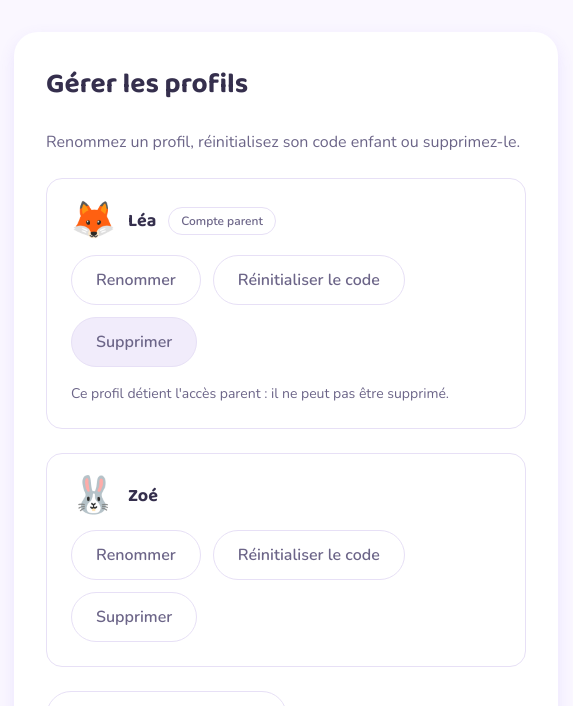
Test: ProfileManager — réinitialiser le PIN enfant › erreur réseau (throw) → repli GENERIC
Click the button "Réinitialiser le code" below "Zoé". click: (309, 555)
box: [213,530,405,580]
(page scrolled)
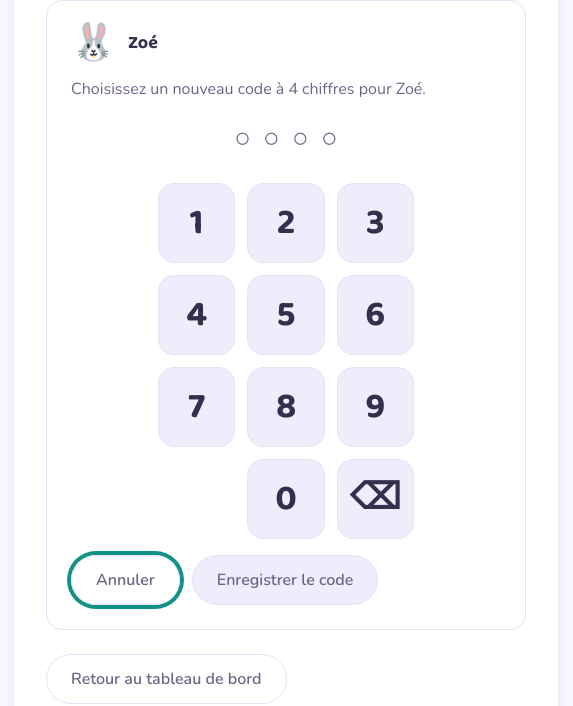
Click the button "3". click: (375, 223)
box: [337,183,414,263]
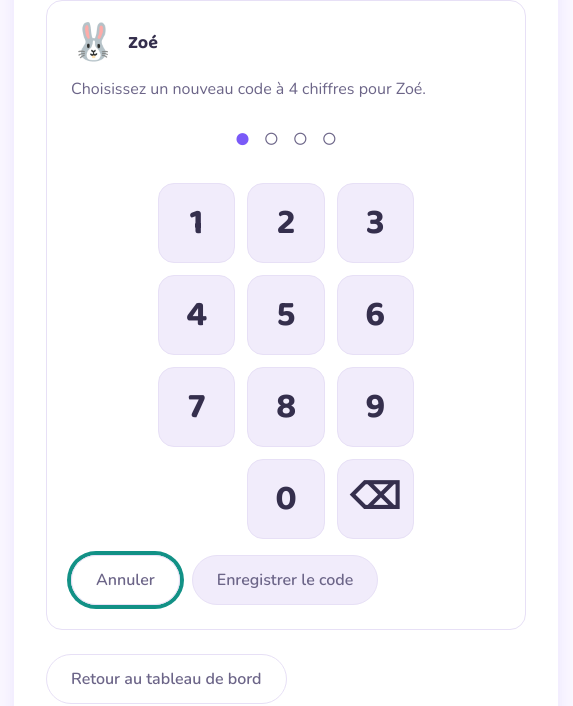
Click the button "3". click: (375, 223)
box: [337,183,414,263]
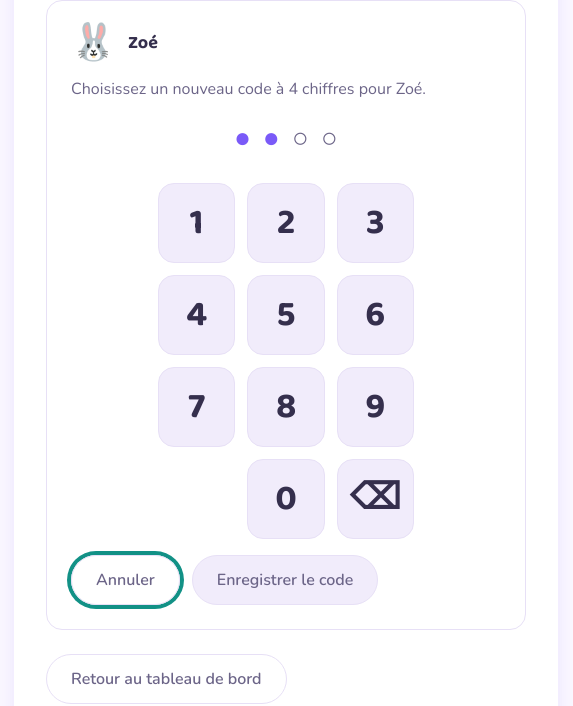
Click the button "3". click: (375, 223)
box: [337,183,414,263]
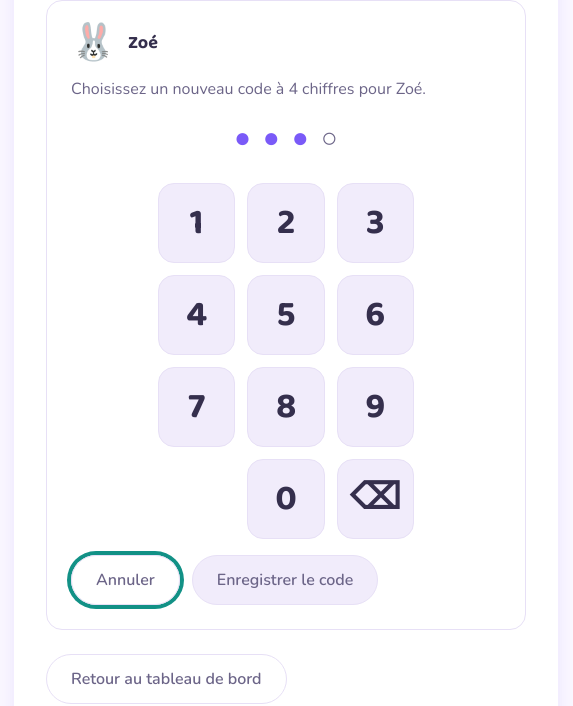
Click the button "3". click: (375, 223)
box: [337,183,414,263]
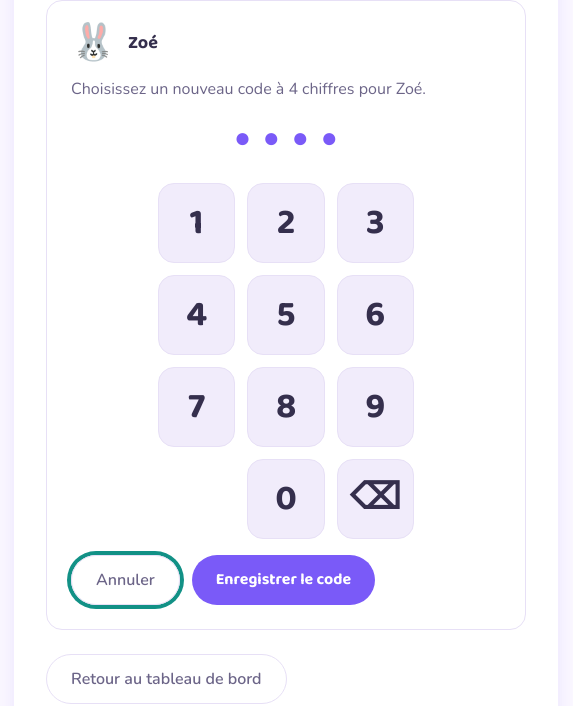
Click the button "Enregistrer le code". click: (283, 580)
box: [192,555,375,605]
(page scrolled)
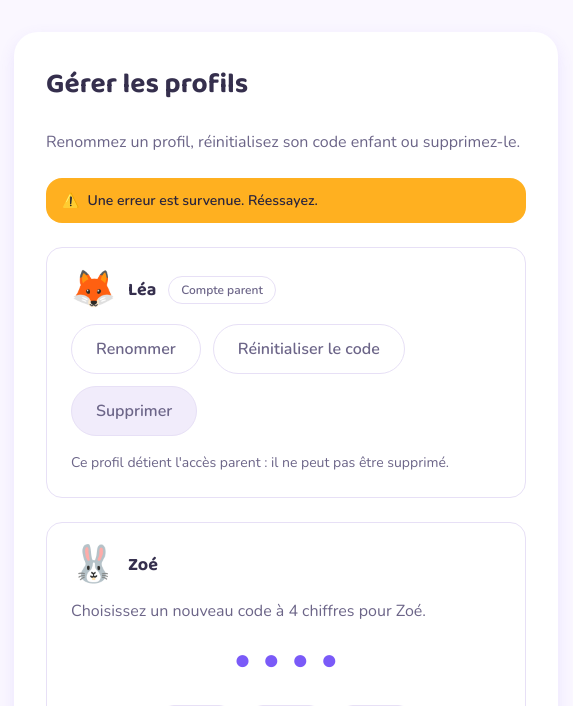
Check: the message shows "Une erreur est survenue. Réessayez.", box [88,191,318,210]
